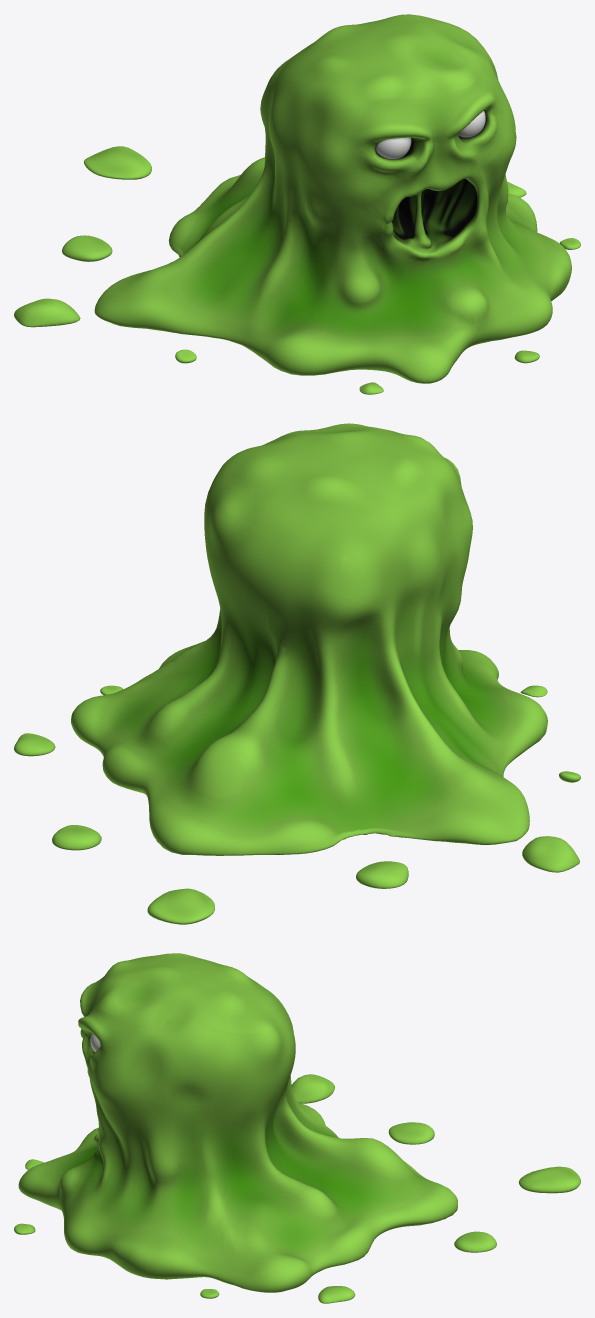
The picture shows the model from 3 angles, top to bottom: view 1: azimuth 30°, elevation 25°; view 2: azimuth 150°, elevation 25°; view 3: azimuth 270°, elevation 25°; orthographic projection. The views are drawn at different scales.
Visible parts, largest first — view 1: Monster_0; view 2: Monster_0; view 3: Monster_0.
Boxes of the visible parts, x1=… form: Monster_0: x1=14, y1=14, x2=580, y2=394; Monster_0: x1=14, y1=423, x2=580, y2=924; Monster_0: x1=14, y1=953, x2=580, y2=1303.
Bounding box in the file's own units: 6.09 × 3.07 × 6.57.
1 material, 1 textured.
